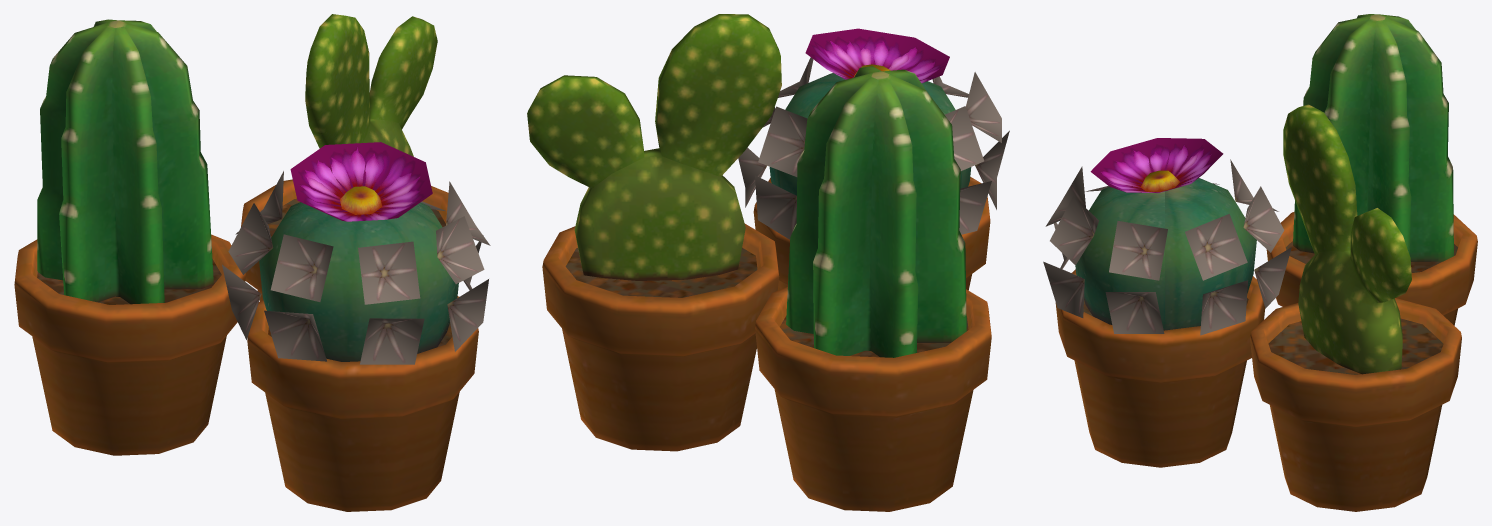
File: FtrCactusesMini.glb
The picture shows the model from 3 angles, left to right: view 1: azimuth 30°, elevation 25°; view 2: azimuth 150°, elevation 25°; view 3: azimuth 270°, elevation 25°; orthographic projection. The views are drawn at different scales.
Visible parts, largest first — view 1: Henpei_Hachi_low__mBody, Flower_low__mAlpha; view 2: Henpei_Hachi_low__mBody, Flower_low__mAlpha; view 3: Henpei_Hachi_low__mBody, Flower_low__mAlpha.
Part boxes in pixels (box(x1,y1,x2,y2)): Henpei_Hachi_low__mBody: box(14, 14, 478, 511); Flower_low__mAlpha: box(222, 142, 490, 364); Henpei_Hachi_low__mBody: box(527, 14, 991, 511); Flower_low__mAlpha: box(738, 28, 1009, 239); Henpei_Hachi_low__mBody: box(1055, 14, 1477, 511); Flower_low__mAlpha: box(1043, 138, 1291, 335).
Bounding box in the file's own units: 5.92 × 5.35 × 5.87.
2 materials, 2 textured.
